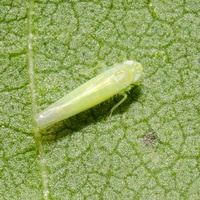insect: (35, 60, 142, 127), (36, 60, 142, 127)
